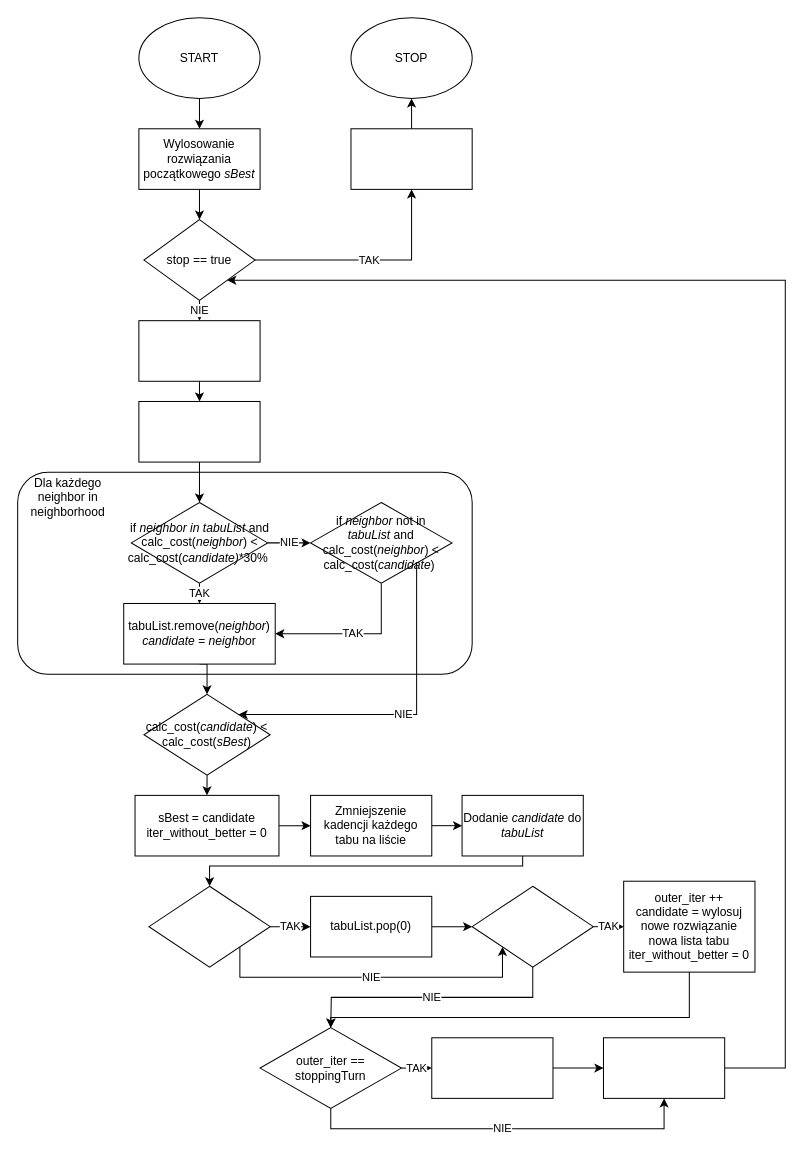
Image size: 811x1154. Some labels were removed from this diagram. The shapes that lost their labels are listed below. From the top down, each one's centre as x and y in pixels, then its label:
At [411,158]: "Zwróć sBest".
At [199,350]: "Wygeneruj rozwiązania z sąsiedztwa neighborhood".
At [199,431]: "candidate = neighborhood[0]".
At [209,926]: "len(tabuList) > maxTabuSize".
At [532,926]: "iter_without_better == max_iter_without_better".
At [492,1067]: "stop = true".
At [663,1067]: "iter_without_better ++".
